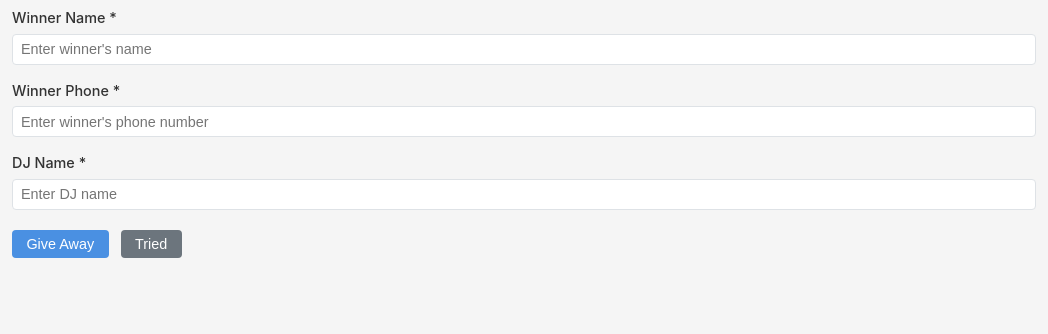
it: PassGiveawayForm › Giveaway Form Validation › should show validation error when recipient phone is empty
This screenshot has width=1048, height=334.
Type "John Doe" into the field labelled "Winner Name *" at (524, 49), box [12, 34, 1036, 65]
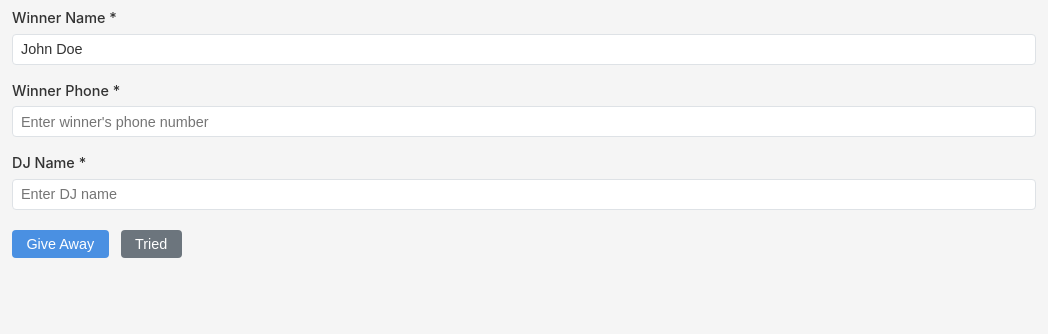
Click the button "Give Away" at (60, 244), box [12, 230, 108, 258]
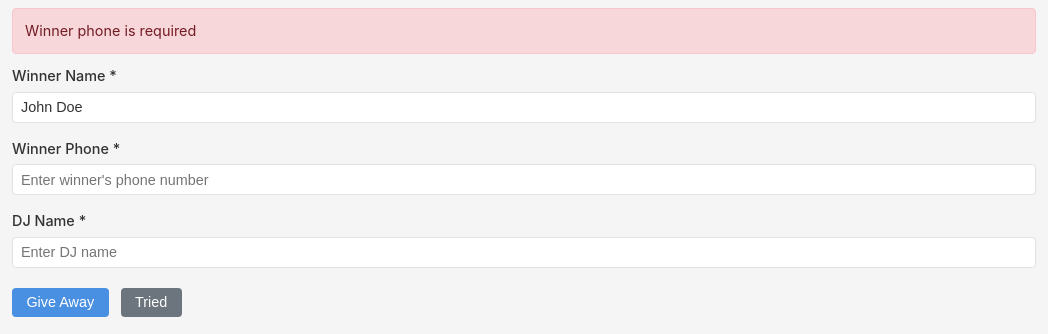
Now the text "Winner phone is required" is shown, box [12, 8, 1036, 54]
